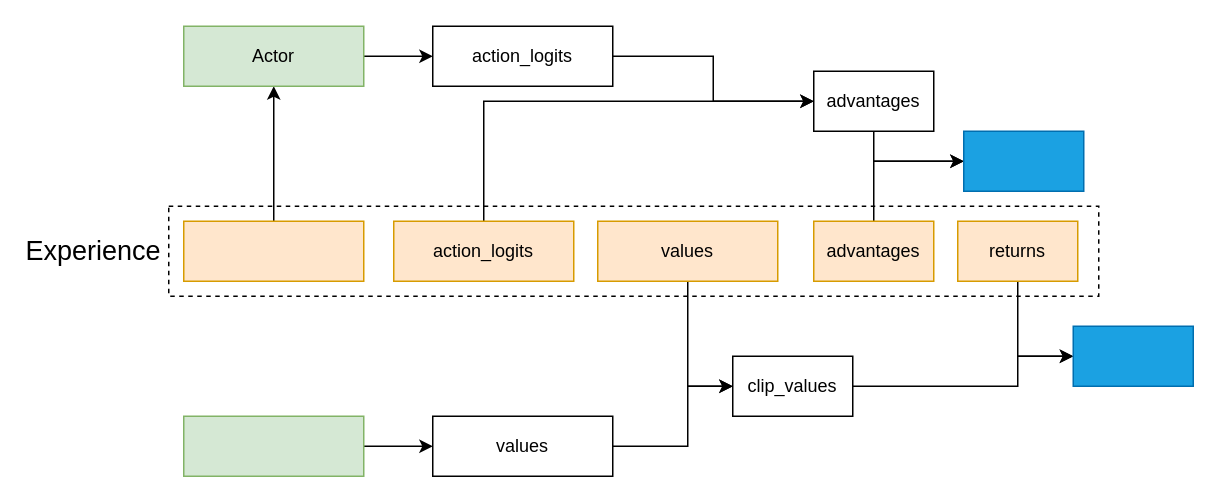
Image size: 1220x503. Some labels were removed from this diagram. Each missing label, with the centre of its shape:
"Critic" belongs at point (273, 445).
"pg_loss" belongs at point (1023, 160).
"sequence" belongs at point (273, 250).
"vf_loss" belongs at point (1132, 355).
